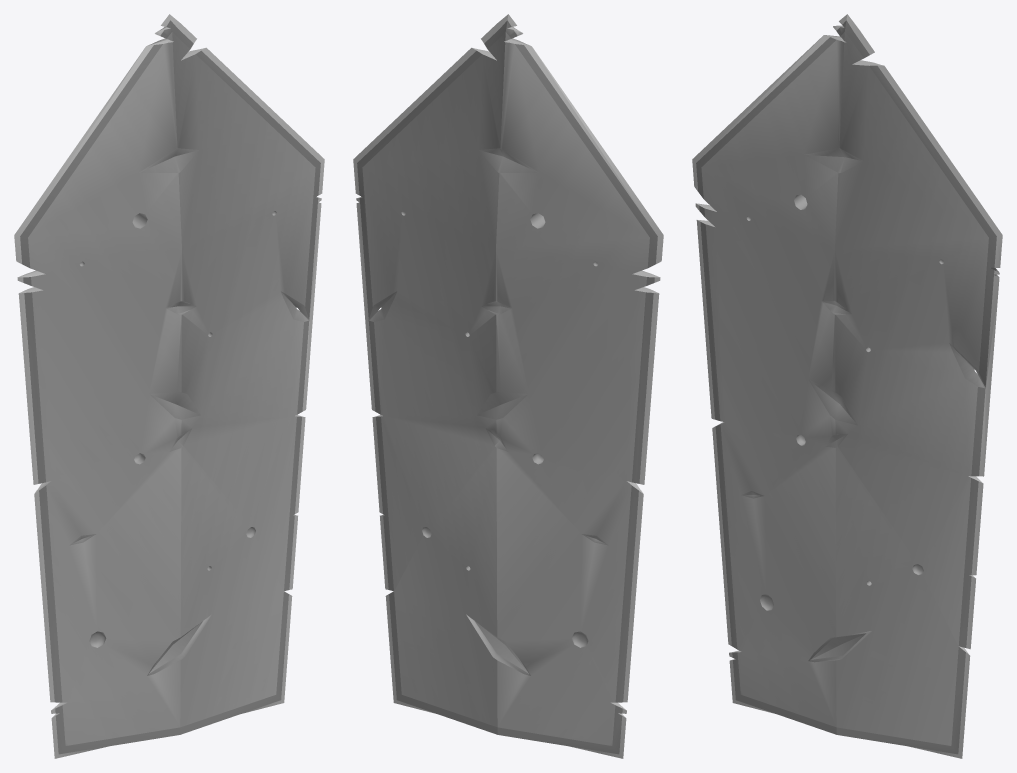
File: stone_blade_bubbles_042.glb
3 renders of one model, left to right at view 1: azimuth 30°, elevation 25°; view 2: azimuth 150°, elevation 25°; view 3: azimuth 330°, elevation 25°, orthographic.
Visible parts, largest first — view 1: stone_blade_bubbles.042; view 2: stone_blade_bubbles.042; view 3: stone_blade_bubbles.042.
Boxes of the visible parts, x1=… form: stone_blade_bubbles.042: x1=14, y1=14, x2=324, y2=758; stone_blade_bubbles.042: x1=353, y1=14, x2=663, y2=758; stone_blade_bubbles.042: x1=692, y1=14, x2=1002, y2=758.
Size of the model in its own units: 5.17 by 11.43 by 0.7262.
Materials: 1 (1 with a texture image).
